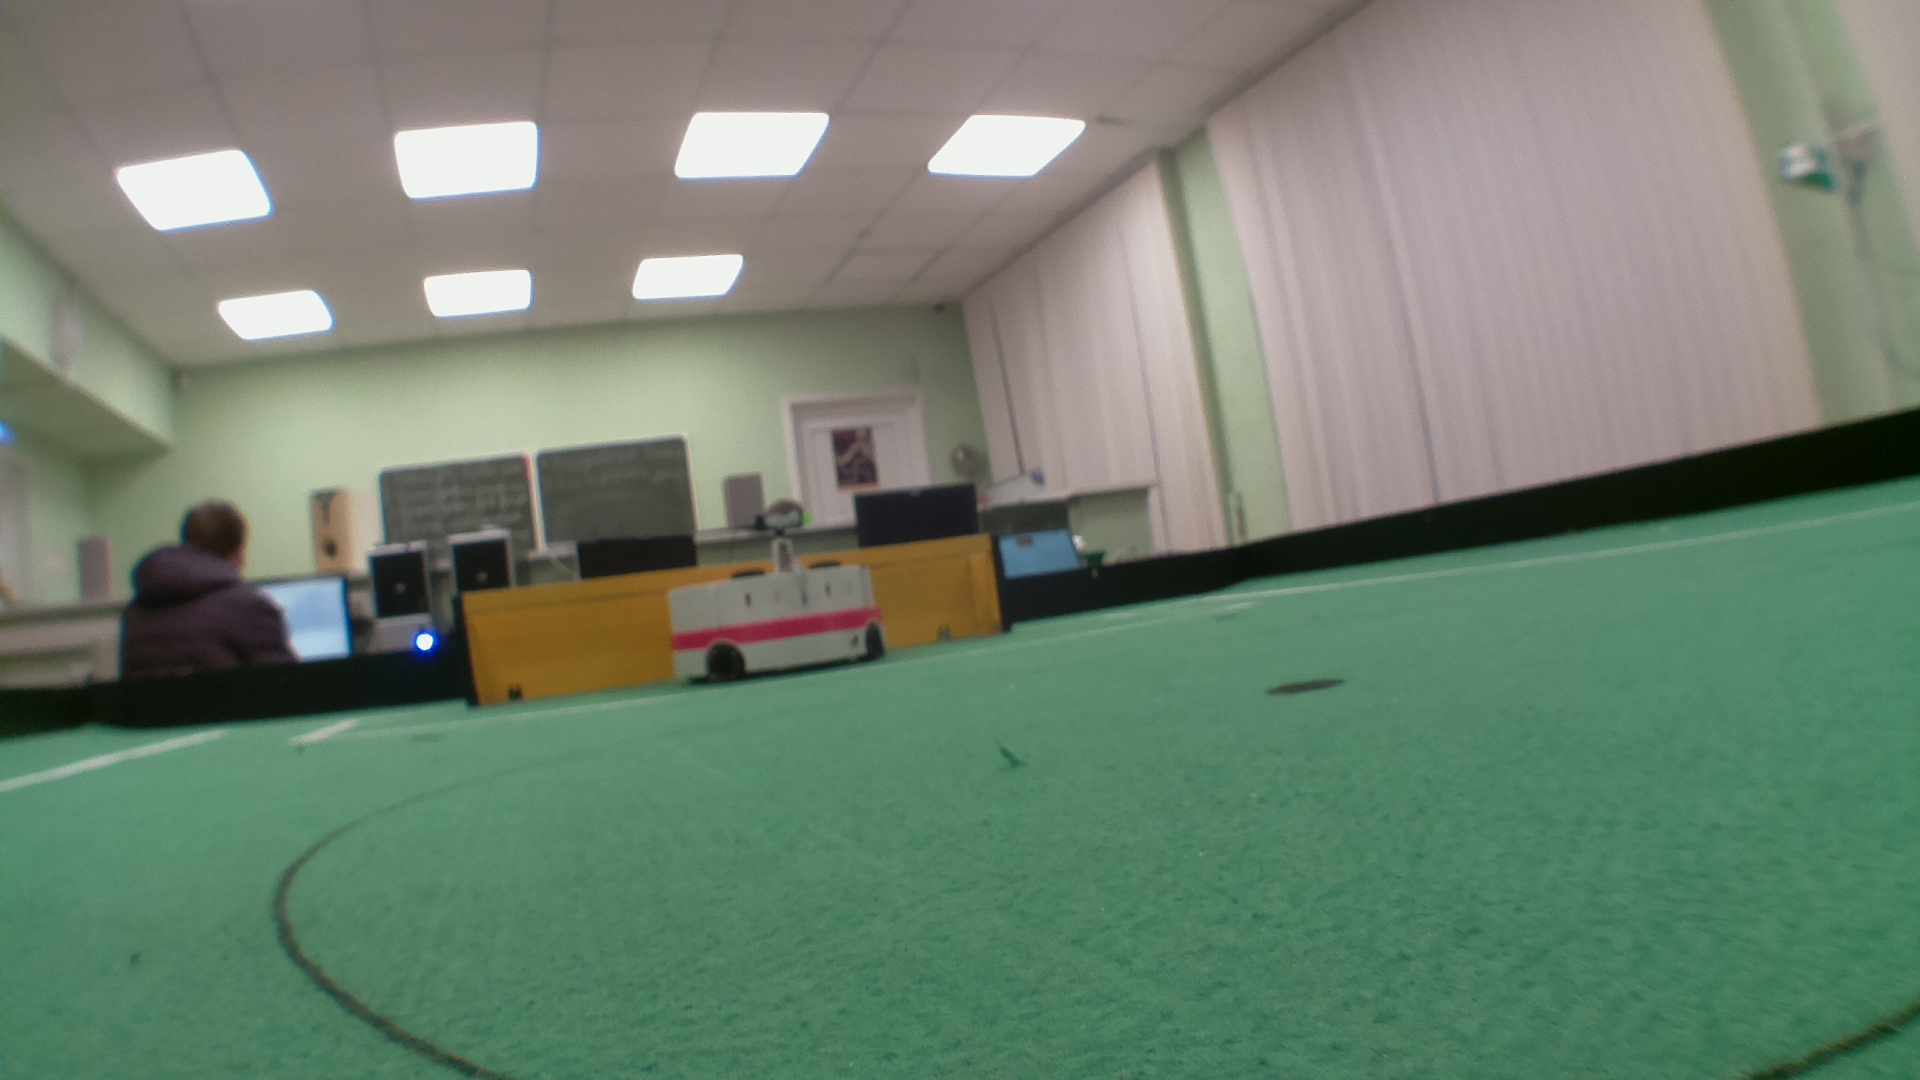YellowGoal: (465, 534, 1007, 694)
